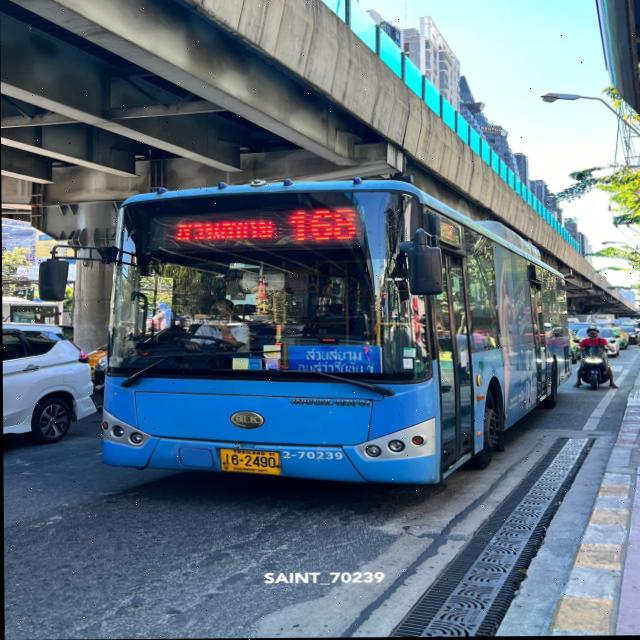BMTA-bus: (99, 180, 568, 488)
Bus Line Number: (284, 204, 362, 245)
Bus Side Number: (282, 445, 343, 465)
Destination Sign: (287, 344, 380, 378)
